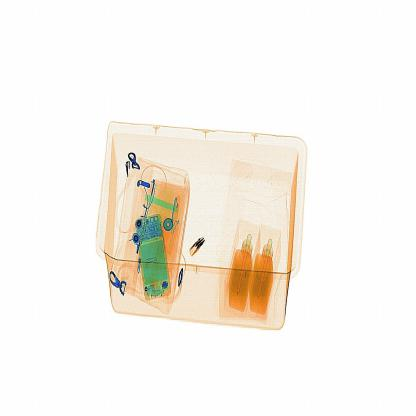wrench: (176, 227, 209, 263)
